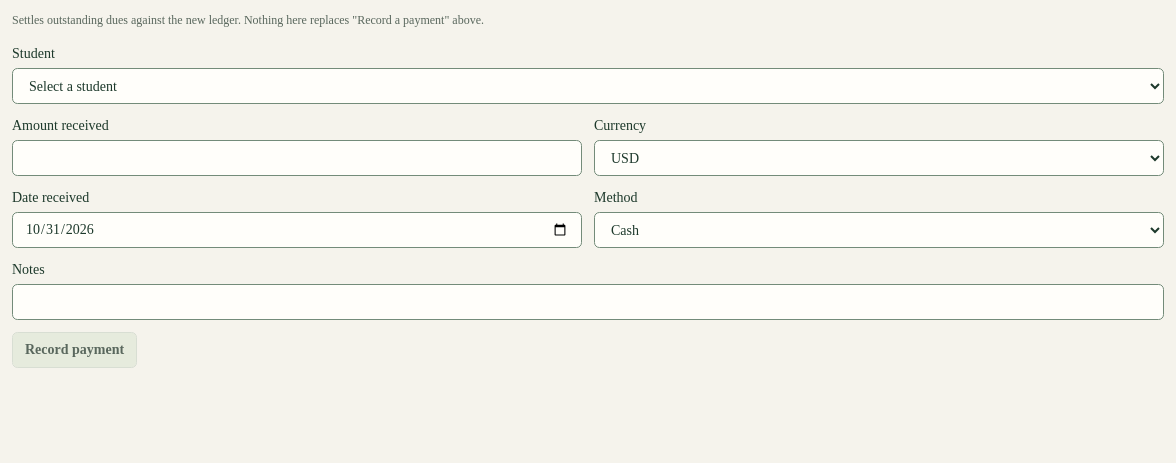
Test: fresh submission outcomes › a fresh capture renders the pending-queue copy with an ADMIN link into the exchange-rate queue
Select "Ana Soto — Alliance" in the dropdown labelled "Student" at (588, 86), box [12, 68, 1164, 104]
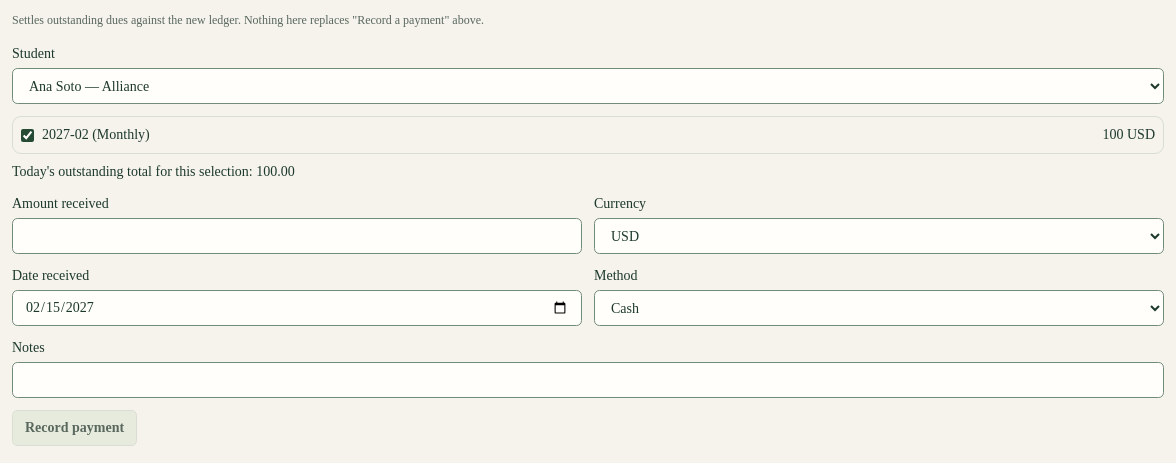
Type "100.00" into the field labelled "Amount received" at (297, 236), box [12, 218, 582, 254]
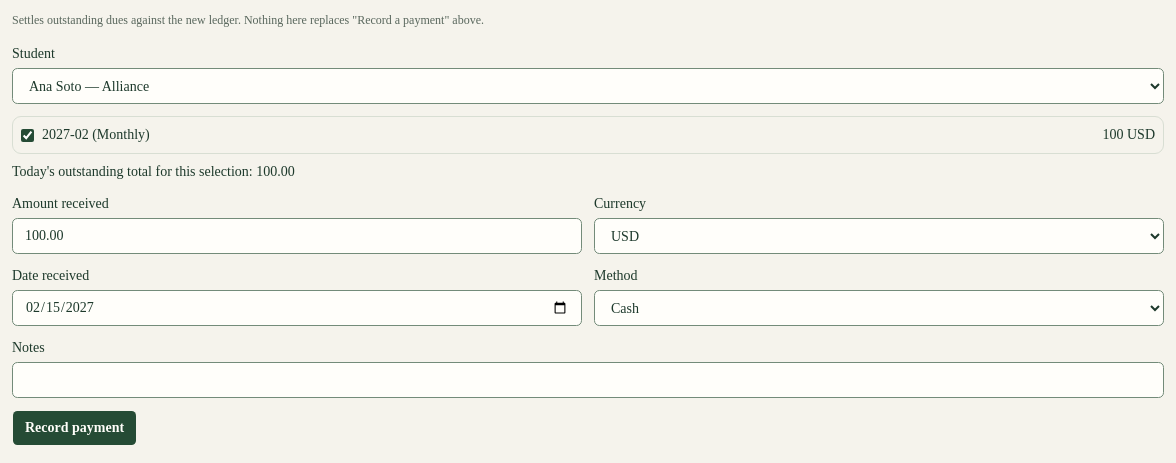
Click the button "Record payment" at (75, 428), box [12, 410, 137, 446]
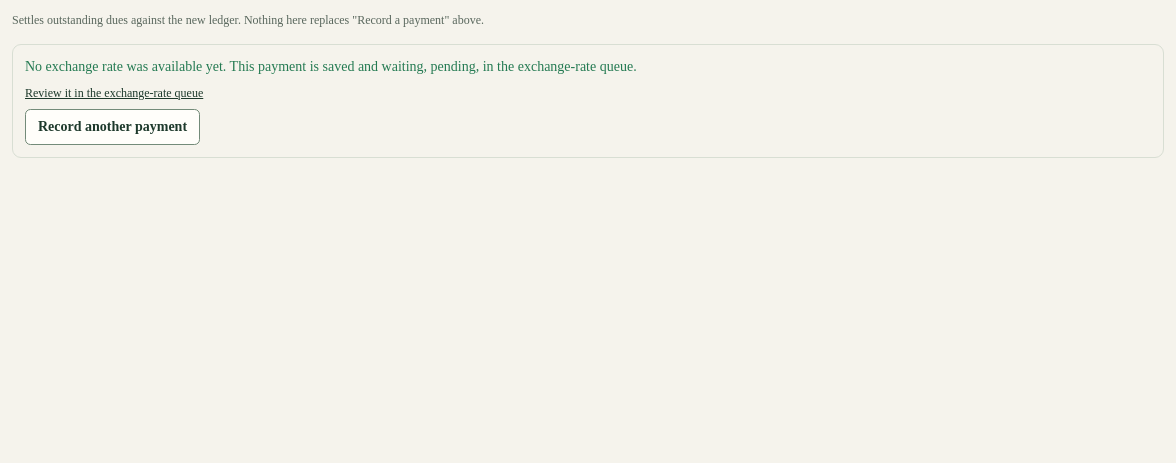
Check: the text "waiting, pending, in the exchange-rate queue" is shown, box [25, 59, 637, 74]
